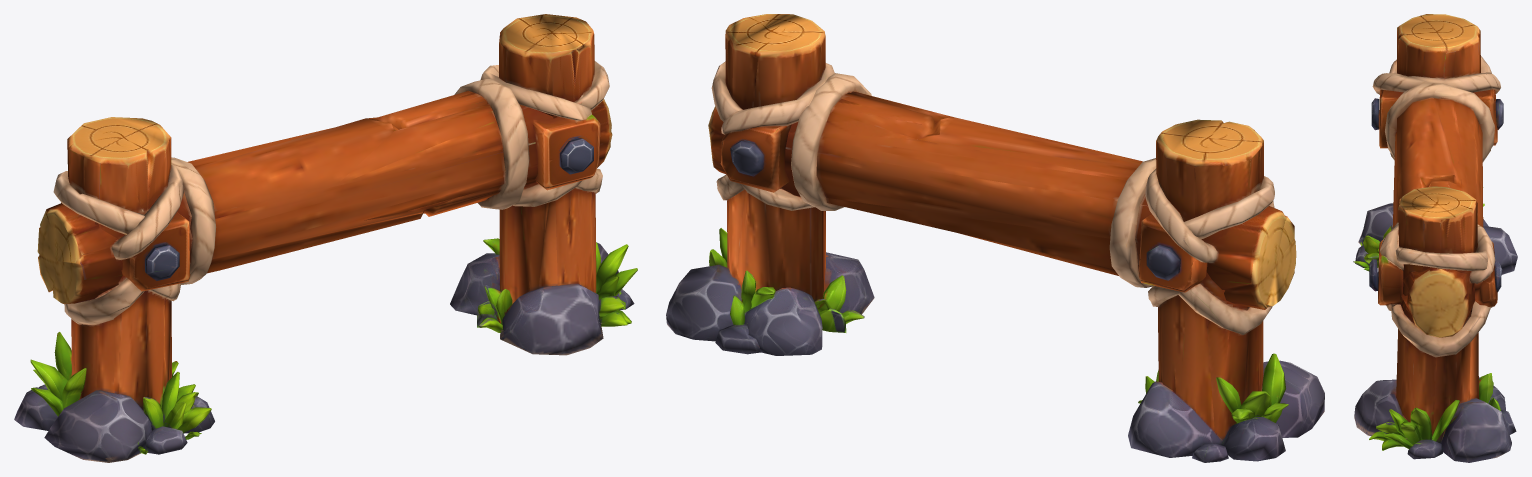
Rendered from Meshy_AI_Rustic_Rope_Fence_1005021431_texture.glb.
3 views of the same model, side by side, from view 1: azimuth 30°, elevation 25°; view 2: azimuth 150°, elevation 25°; view 3: azimuth 270°, elevation 25° (orthographic). The views are drawn at different scales.
Visible parts, largest first — view 1: Mesh_0; view 2: Mesh_0; view 3: Mesh_0.
Part boxes in pixels (x1,y1,x2,y2): Mesh_0: (14,14,637,462); Mesh_0: (666,14,1324,462); Mesh_0: (1353,14,1517,462).
Bounding box in the file's own units: 0.0889 × 0.04 × 0.0259.
1 material, 1 textured.
